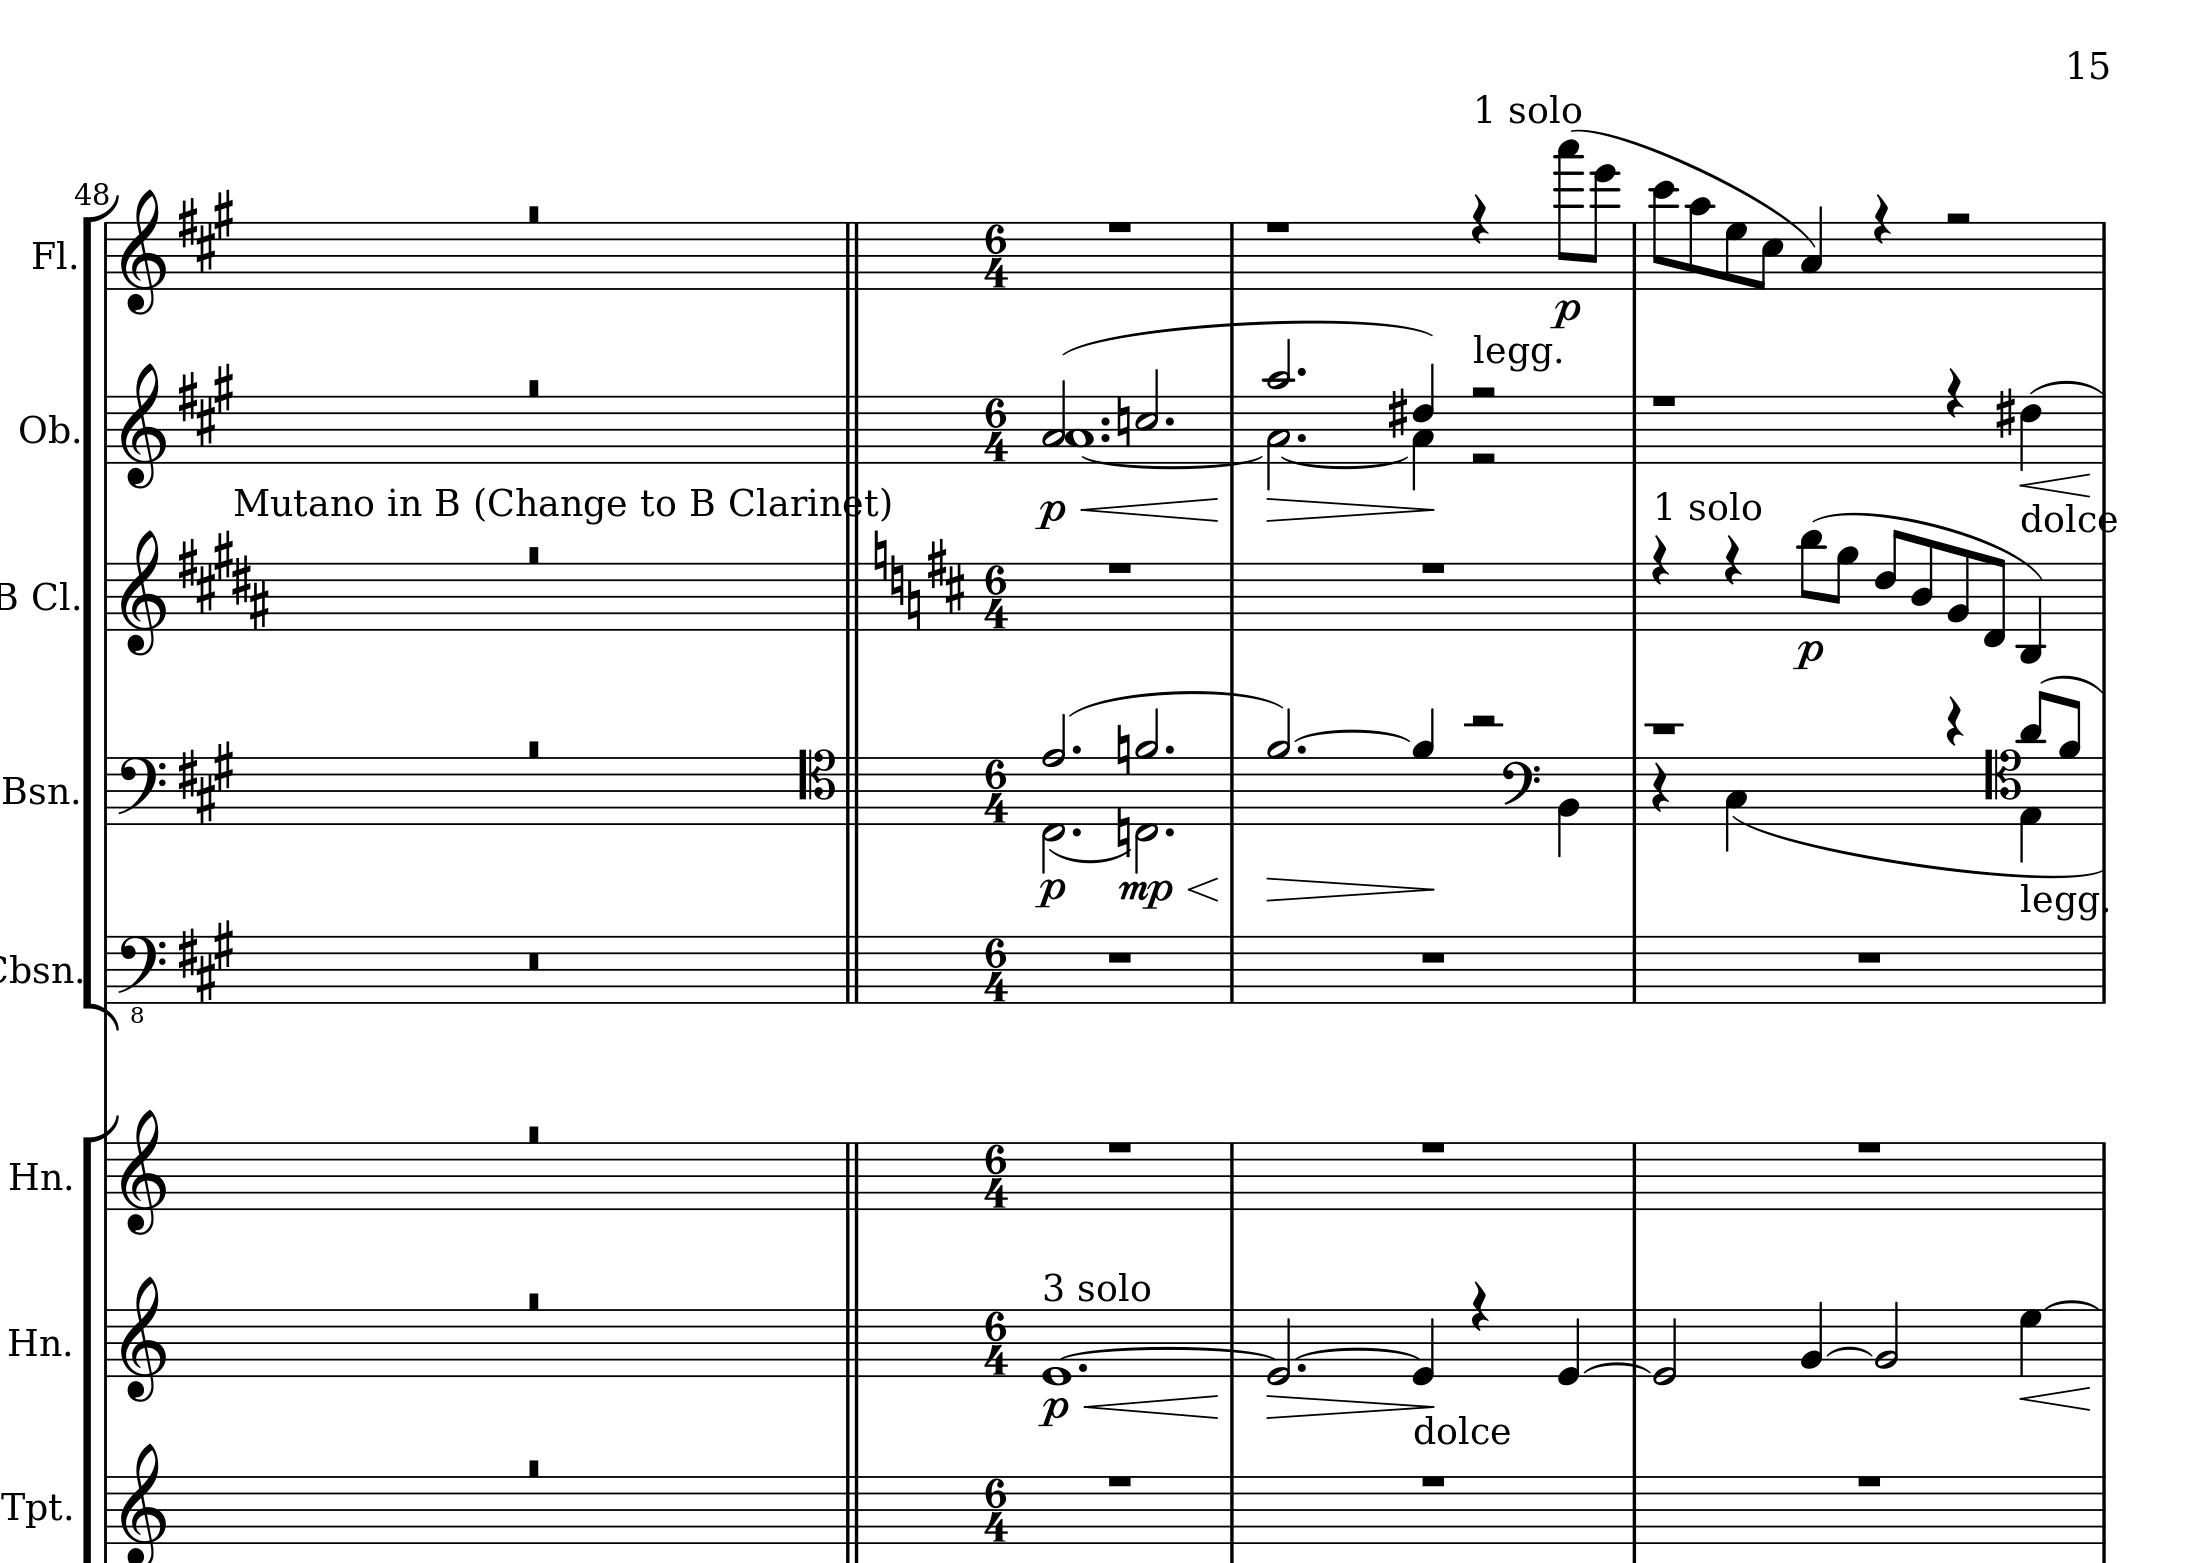1: (1472, 90, 1494, 129), (1654, 487, 1675, 523), (2066, 46, 2084, 83)
1_0: (1040, 1308, 1071, 1389)
2_-1_8: (1040, 714, 1067, 875)
2_-1_9: (1133, 704, 1160, 876)
2_0: (1264, 1304, 1292, 1385), (1649, 1304, 1678, 1385)
2_2: (1873, 1297, 1901, 1379)
2_3_10: (1265, 328, 1296, 491)
2_5: (1137, 369, 1160, 463)
2_9: (1267, 709, 1292, 825)
3: (1040, 1270, 1064, 1302)
4: (981, 254, 1012, 289), (981, 426, 1012, 462), (981, 1174, 1012, 1209), (981, 1507, 1010, 1544), (981, 595, 1012, 629), (981, 788, 1010, 824), (981, 968, 1010, 1003), (981, 1341, 1010, 1375), (73, 179, 91, 206)
4_-3: (2016, 560, 2044, 665)
4_0: (1555, 1304, 1582, 1385), (1411, 1304, 1436, 1385)
4_1: (2018, 754, 2042, 863)
4_2: (1555, 754, 1578, 858), (1798, 1297, 1825, 1379)
4_3: (1724, 753, 1747, 853), (1798, 203, 1824, 289)
4_3_6: (1411, 360, 1436, 492)
4_6: (2018, 392, 2044, 472)
4_7: (2016, 1308, 2044, 1379)
4_9: (1411, 707, 1435, 825)
5: (2089, 44, 2111, 83)
6: (983, 1473, 1008, 1509), (983, 220, 1008, 254), (983, 394, 1008, 428), (983, 562, 1008, 595), (983, 754, 1008, 788), (983, 934, 1008, 968), (983, 1142, 1008, 1176), (983, 1308, 1008, 1341)
8: (91, 179, 108, 205)
8_-1: (1979, 553, 2006, 648)
8_10: (1685, 195, 1712, 293)
8_11: (1797, 528, 1824, 629)
8_12: (1649, 178, 1676, 289)
8_14: (1587, 162, 1619, 293)
8_17: (1553, 139, 1583, 293)
8_2: (1945, 545, 1971, 631)
8_4: (1908, 536, 1934, 633)
8_5: (1754, 220, 1783, 291)
8_6: (1873, 526, 1905, 633)
8_7: (1722, 220, 1747, 289)
8_9: (2059, 695, 2081, 825), (1829, 545, 1857, 631)
A_S: (174, 917, 237, 1003), (174, 360, 237, 445), (174, 739, 237, 824), (176, 188, 237, 271)
B_S: (178, 529, 271, 629)
Bracke: (78, 193, 118, 1028)
Bsn: (2, 770, 69, 814)
Cl: (30, 577, 73, 617)
Crescendo_hairpin: (1084, 1394, 1221, 1423), (1084, 496, 1215, 523), (2020, 1384, 2093, 1414), (2022, 470, 2091, 497), (1188, 875, 1221, 902)
Diminuendo_hairpin: (1264, 876, 1438, 902), (1264, 497, 1435, 521), (1265, 1396, 1435, 1416)
Double_barline: (837, 394, 864, 462), (839, 934, 866, 1001), (839, 1308, 866, 1375), (839, 1475, 866, 1543), (841, 562, 864, 629), (841, 756, 864, 824), (841, 1142, 864, 1209), (841, 222, 864, 288)
Fclef: (117, 754, 167, 827), (1499, 754, 1539, 825)
Fl: (29, 235, 69, 276)
Gclef: (118, 1106, 167, 1237), (118, 528, 167, 656), (118, 1274, 167, 1402), (118, 360, 166, 491), (118, 188, 166, 316), (118, 1440, 167, 1563)
Hn: (3, 1154, 63, 1196), (3, 1319, 59, 1360)
Lower_Fclef: (117, 932, 167, 1023)
Natural: (898, 572, 922, 628), (1113, 721, 1132, 775), (870, 528, 886, 584), (1115, 392, 1132, 447), (888, 555, 907, 604), (1115, 805, 1130, 858)
Ob: (17, 408, 71, 450)
Rests1: (1418, 557, 1450, 577), (1418, 1135, 1450, 1155), (1418, 1470, 1450, 1490), (1646, 391, 1680, 409), (1648, 717, 1682, 736), (1103, 217, 1135, 235), (1260, 217, 1292, 235), (1418, 947, 1450, 966), (1852, 947, 1885, 966), (1103, 1137, 1135, 1155), (1852, 1137, 1885, 1155), (1852, 1470, 1885, 1489), (1467, 710, 1501, 727), (1105, 557, 1135, 575), (1103, 947, 1133, 964), (1105, 1472, 1135, 1489)
Rests2: (1467, 381, 1501, 403), (1942, 206, 1974, 228), (1468, 447, 1499, 467)
Rests4: (1648, 760, 1671, 814), (1468, 191, 1490, 245), (1468, 1279, 1490, 1333), (1720, 533, 1742, 585), (1944, 364, 1964, 420), (1871, 193, 1891, 245), (1649, 533, 1670, 585), (1944, 694, 1962, 748)
Sharp: (1385, 386, 1407, 440), (1994, 386, 2015, 440)
Single_barline: (1626, 1308, 1646, 1374), (1221, 1309, 1242, 1375), (2093, 394, 2111, 462), (1223, 562, 1242, 629), (1626, 562, 1644, 629), (1223, 756, 1242, 824), (1223, 1142, 1242, 1209), (98, 1308, 117, 1375), (1626, 396, 1644, 462), (1626, 1142, 1644, 1208), (2093, 1309, 2111, 1375), (1626, 1477, 1644, 1543), (1626, 222, 1643, 289), (2094, 937, 2111, 1005), (100, 1142, 117, 1209), (100, 1475, 117, 1543), (1225, 1475, 1242, 1543), (98, 222, 115, 288), (2094, 222, 2111, 288), (1626, 756, 1643, 822), (2094, 758, 2111, 824), (1626, 935, 1643, 1001), (1225, 935, 1242, 1001), (2094, 1142, 2111, 1208), (2094, 1477, 2111, 1543), (100, 935, 115, 1005), (2094, 562, 2110, 629), (100, 756, 115, 824), (1225, 222, 1240, 288), (1225, 396, 1240, 458), (100, 396, 113, 463), (100, 563, 113, 629)
Slur: (1732, 814, 2104, 880), (1057, 318, 1433, 357), (1066, 690, 1287, 717), (1079, 453, 1262, 470), (1279, 453, 1409, 470), (1296, 1345, 1423, 1362), (1294, 727, 1416, 743), (1047, 847, 1127, 863), (2040, 673, 2104, 692), (2032, 379, 2104, 394), (1583, 1362, 1649, 1375), (2045, 1297, 2099, 1309), (1825, 1345, 1873, 1357)
Solo: (1074, 1269, 1155, 1304), (1688, 487, 1761, 523), (1507, 90, 1582, 123)
Tensor_Cclef: (795, 744, 837, 825), (1981, 744, 2020, 825)
TimeSig: (981, 1140, 1012, 1209), (981, 1308, 1012, 1375), (981, 392, 1010, 463), (981, 754, 1010, 825), (981, 934, 1010, 1003), (981, 1473, 1010, 1543), (981, 222, 1010, 289), (981, 562, 1008, 629)
Tpt: (2, 1483, 64, 1531)
dot: (1296, 364, 1309, 381), (1162, 413, 1177, 426), (1296, 430, 1309, 445), (1162, 824, 1177, 837), (1098, 428, 1111, 441), (1100, 413, 1111, 428), (1296, 743, 1308, 758), (1162, 743, 1176, 754), (1071, 824, 1083, 837), (1296, 1362, 1308, 1375), (1071, 743, 1083, 754), (1078, 1362, 1089, 1374)
mp: (1116, 876, 1174, 910)
p: (1548, 296, 1582, 332), (1034, 875, 1067, 910), (1034, 497, 1067, 529), (1791, 638, 1824, 672), (1037, 1394, 1067, 1429)
